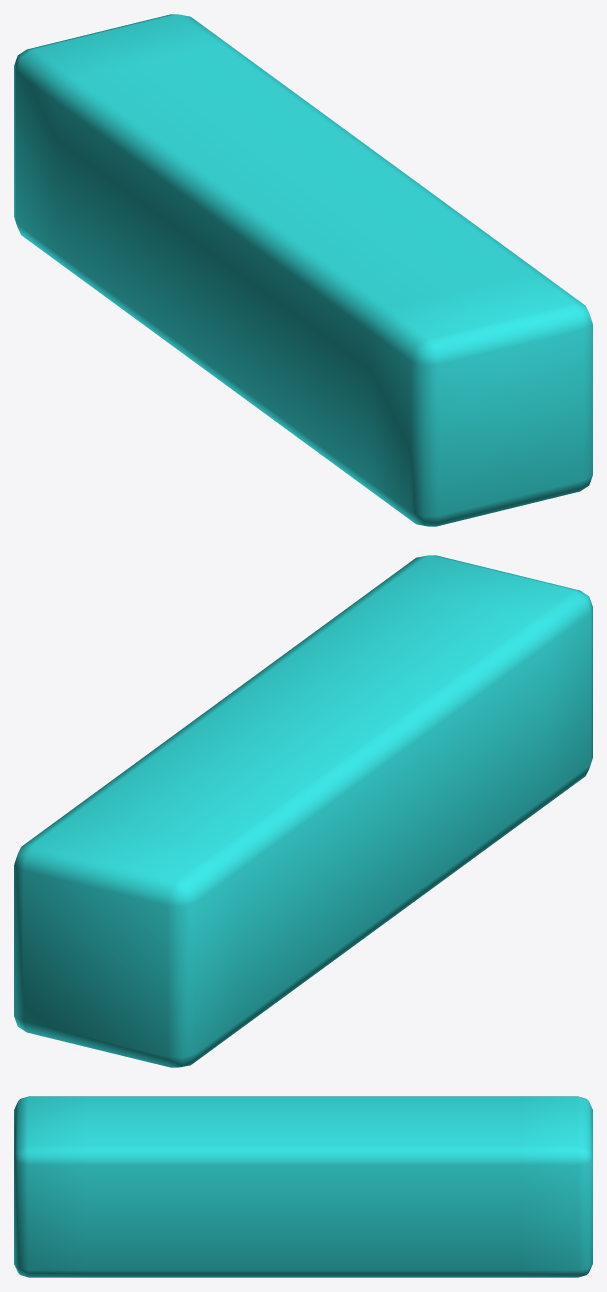
Rendered from tetrisI-glass.obj.
3 renders of one model, top to bottom at view 1: azimuth 30°, elevation 25°; view 2: azimuth 150°, elevation 25°; view 3: azimuth 270°, elevation 25°, orthographic. The views are drawn at different scales.
Visible parts, largest first — view 1: Cube; view 2: Cube; view 3: Cube.
Boxes of the visible parts, x1,y1,x2,y2 form: Cube: (14,14,592,526); Cube: (14,555,592,1067); Cube: (14,1096,592,1277).
Bounding box in the file's own units: 0.15 × 0.15 × 0.6.
